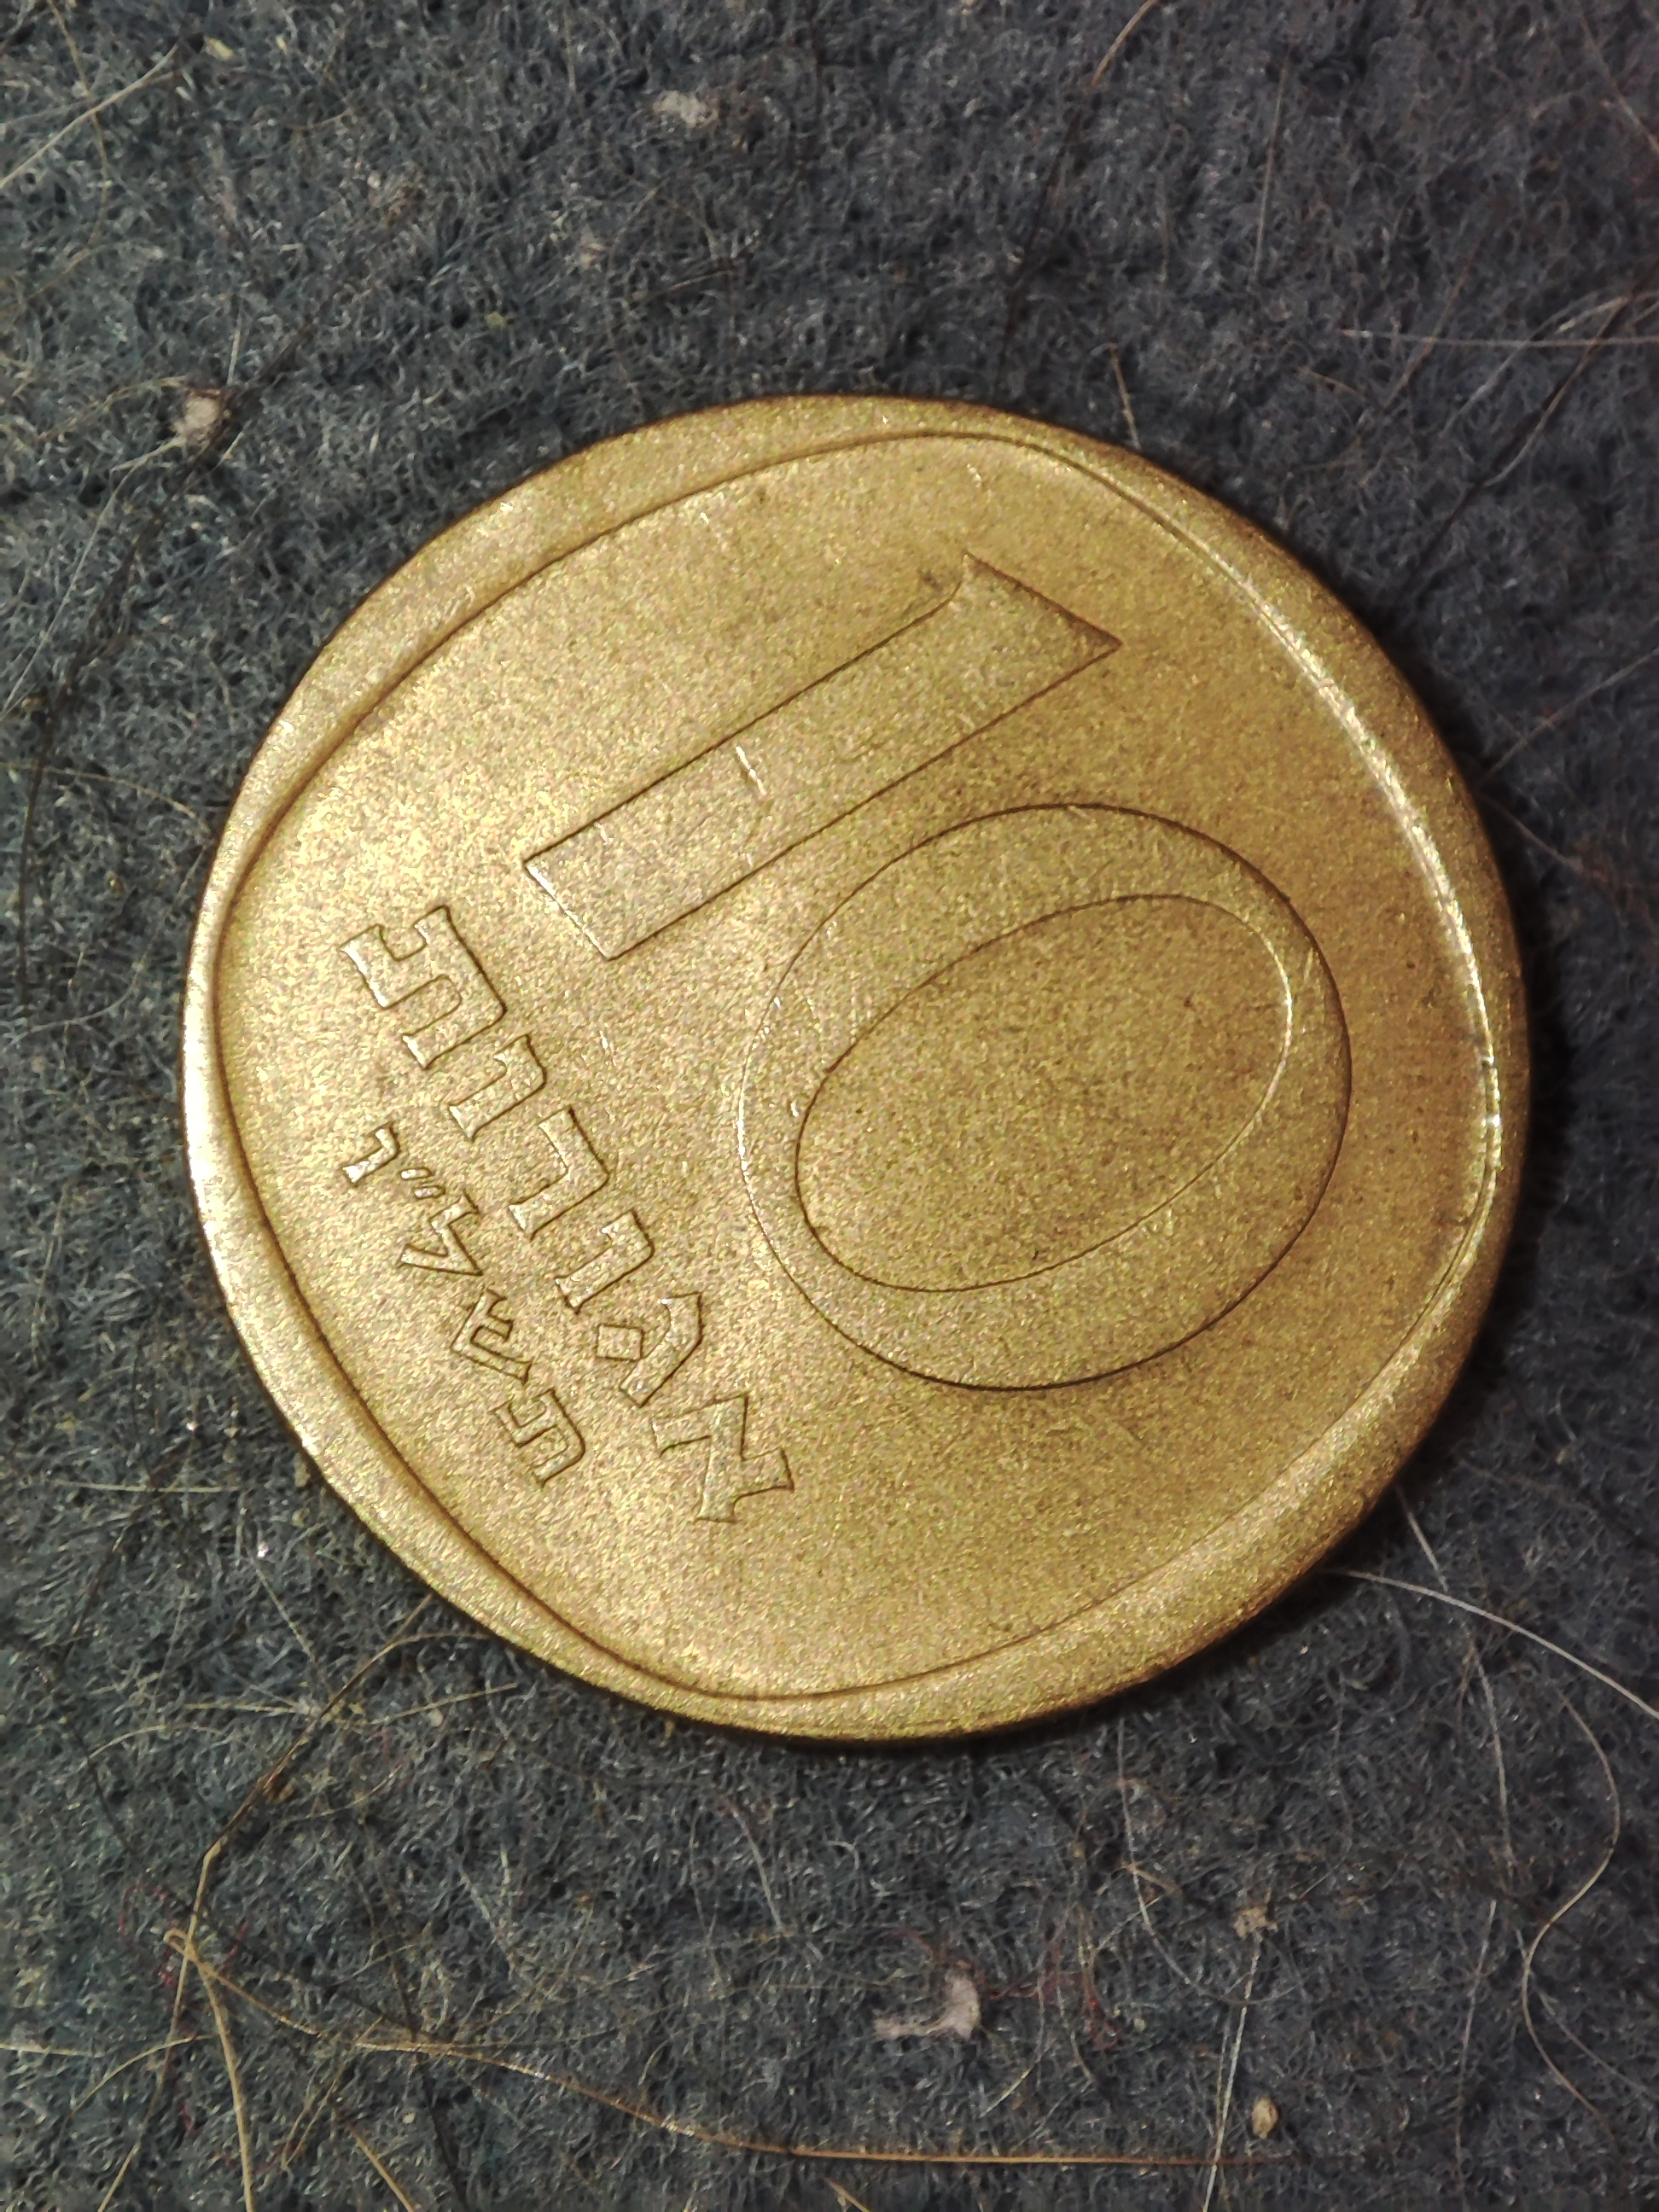10 old agora brown: (174, 399, 1546, 1749)
